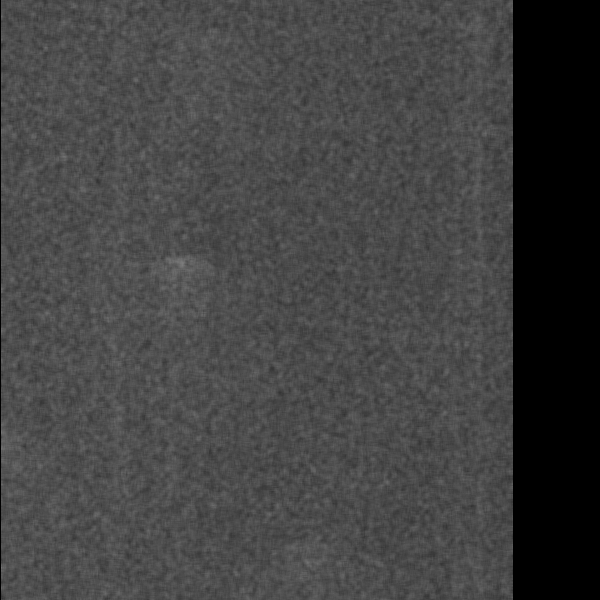spark: (35, 446, 66, 502), (42, 206, 74, 250), (329, 532, 354, 567)
